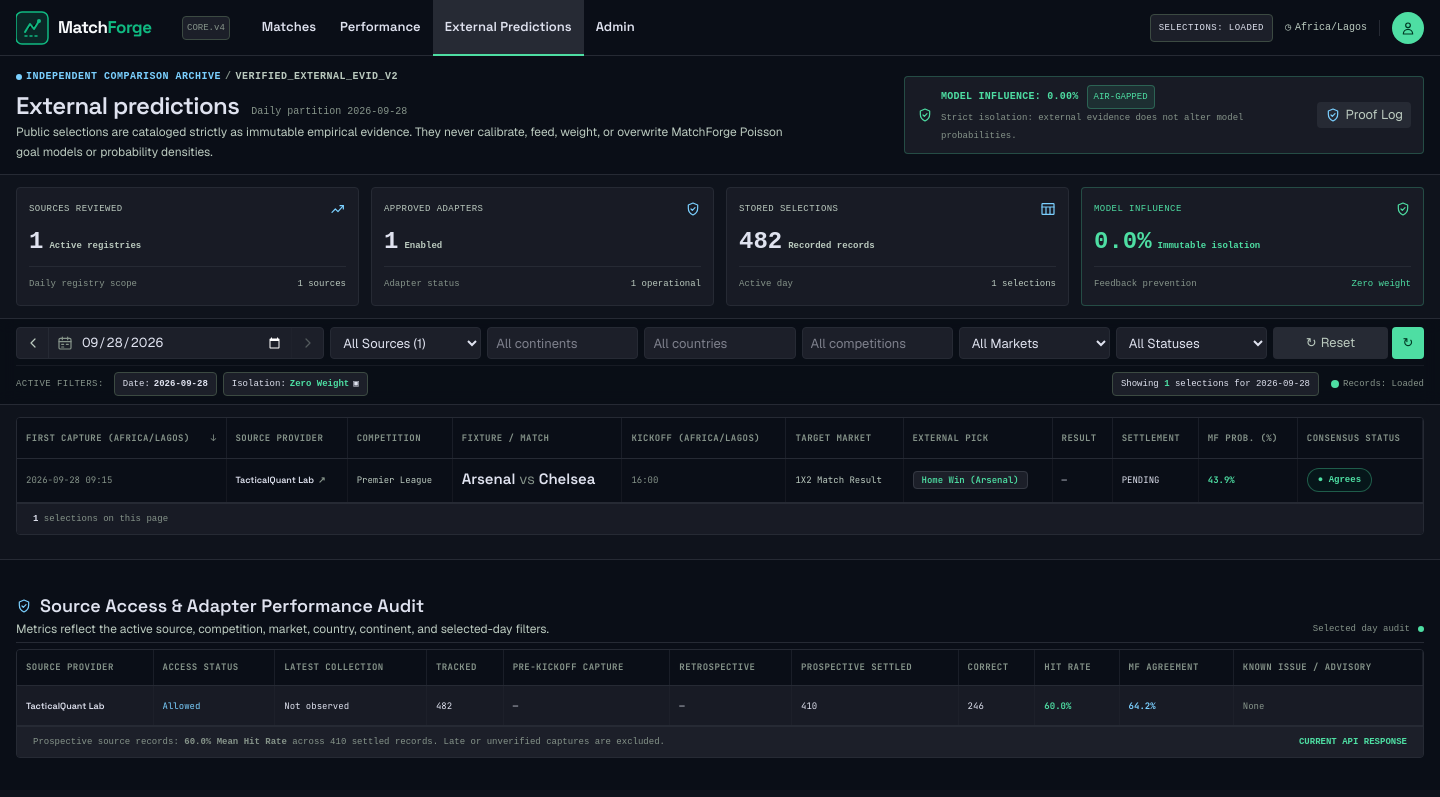
Test: PredictionsPage › moves one day at a time and keeps the table scoped to that day
Check: the cell "Arsenal vs Chelsea" is shown, box [452,458,622,502]
What coordinates should you click on to do the following:
click the button named "Previous day"
I would click on:
 (33, 343)
Its box is [17,328,49,358].
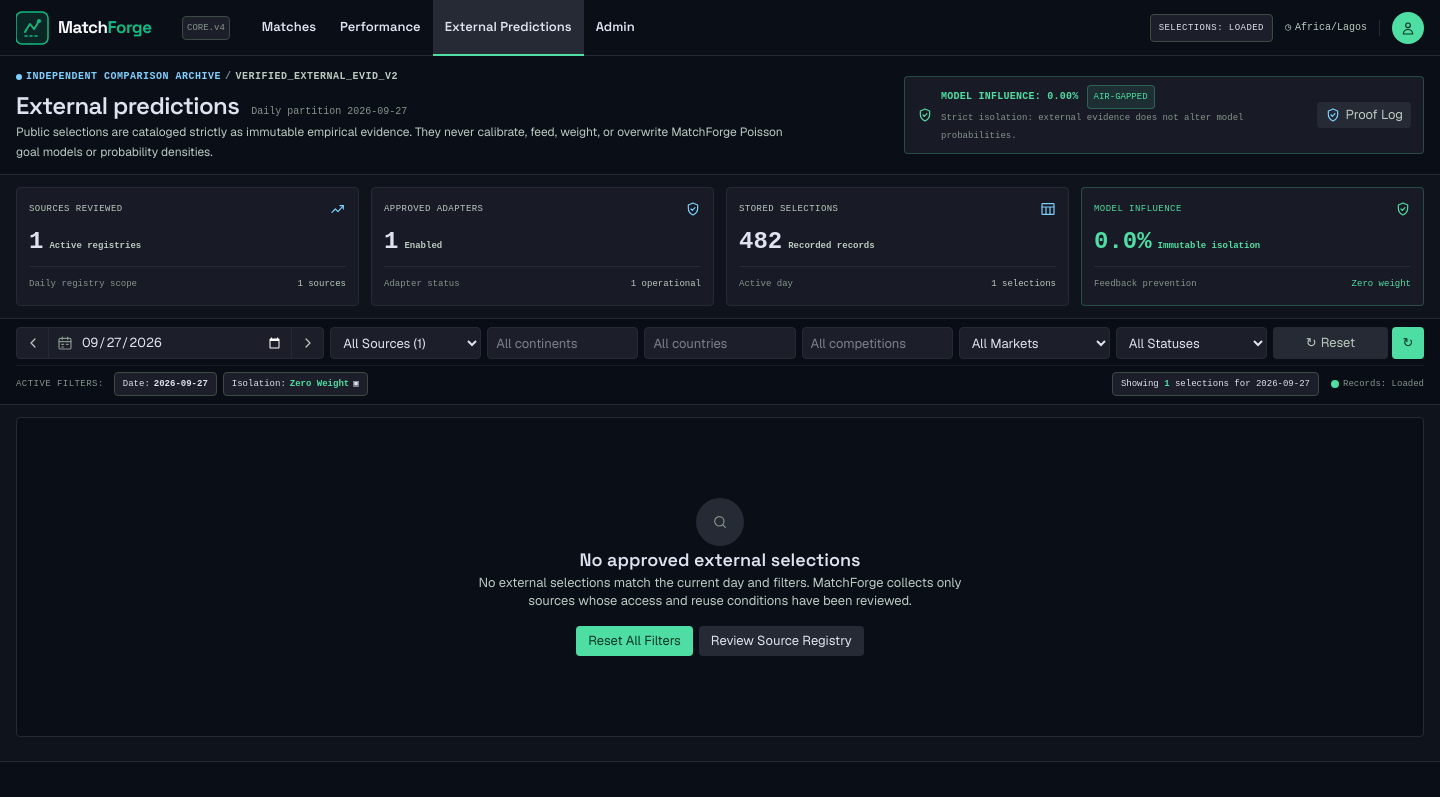
Check: the date field named "Prediction day" holds "2026-09-27", box [73,328,291,358]
What coordinates should you click on to do the following:
click the button named "Next day"
I would click on:
 (307, 343)
Its box is [291,328,323,358].
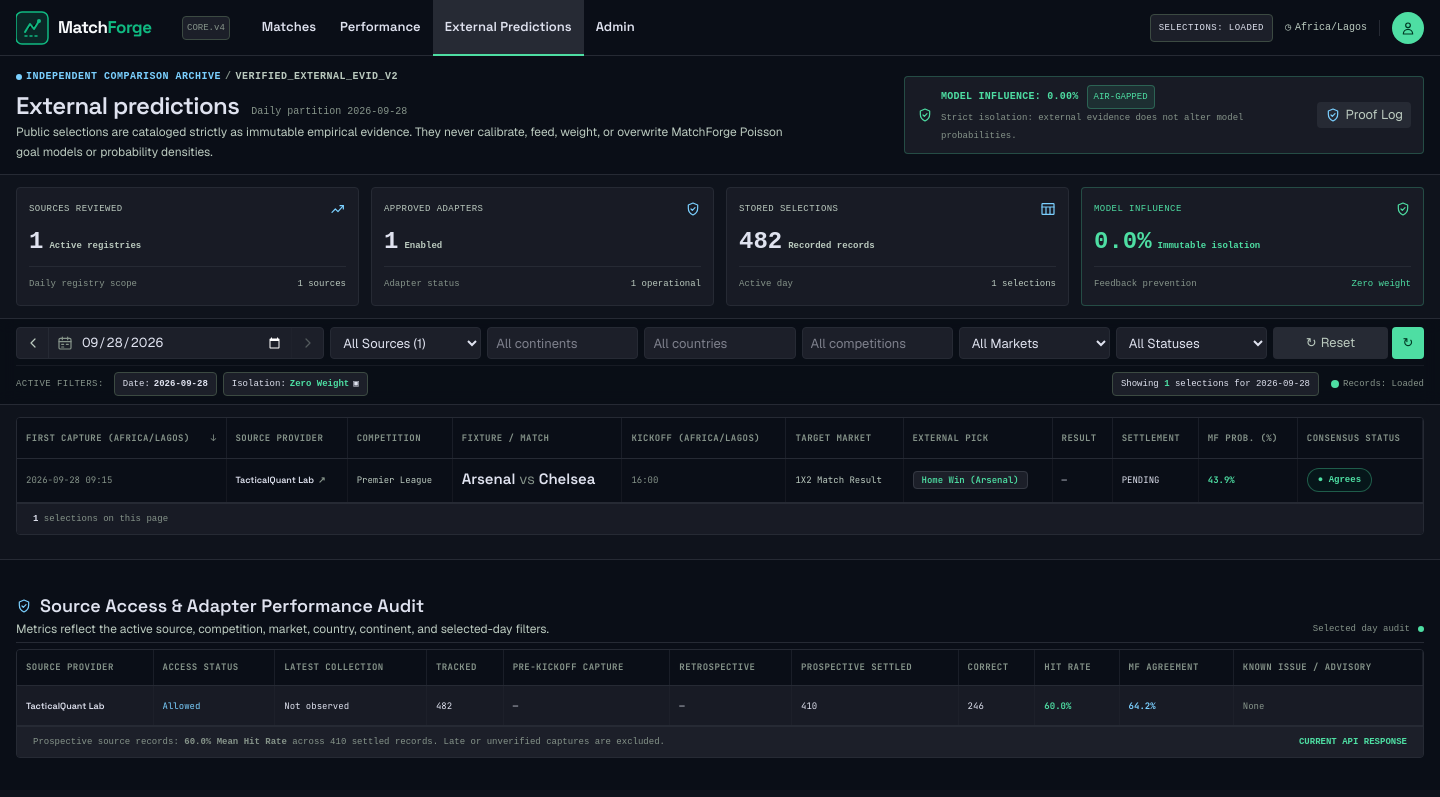
Check: the date field named "Prediction day" holds "2026-09-28", box [73,328,291,358]
